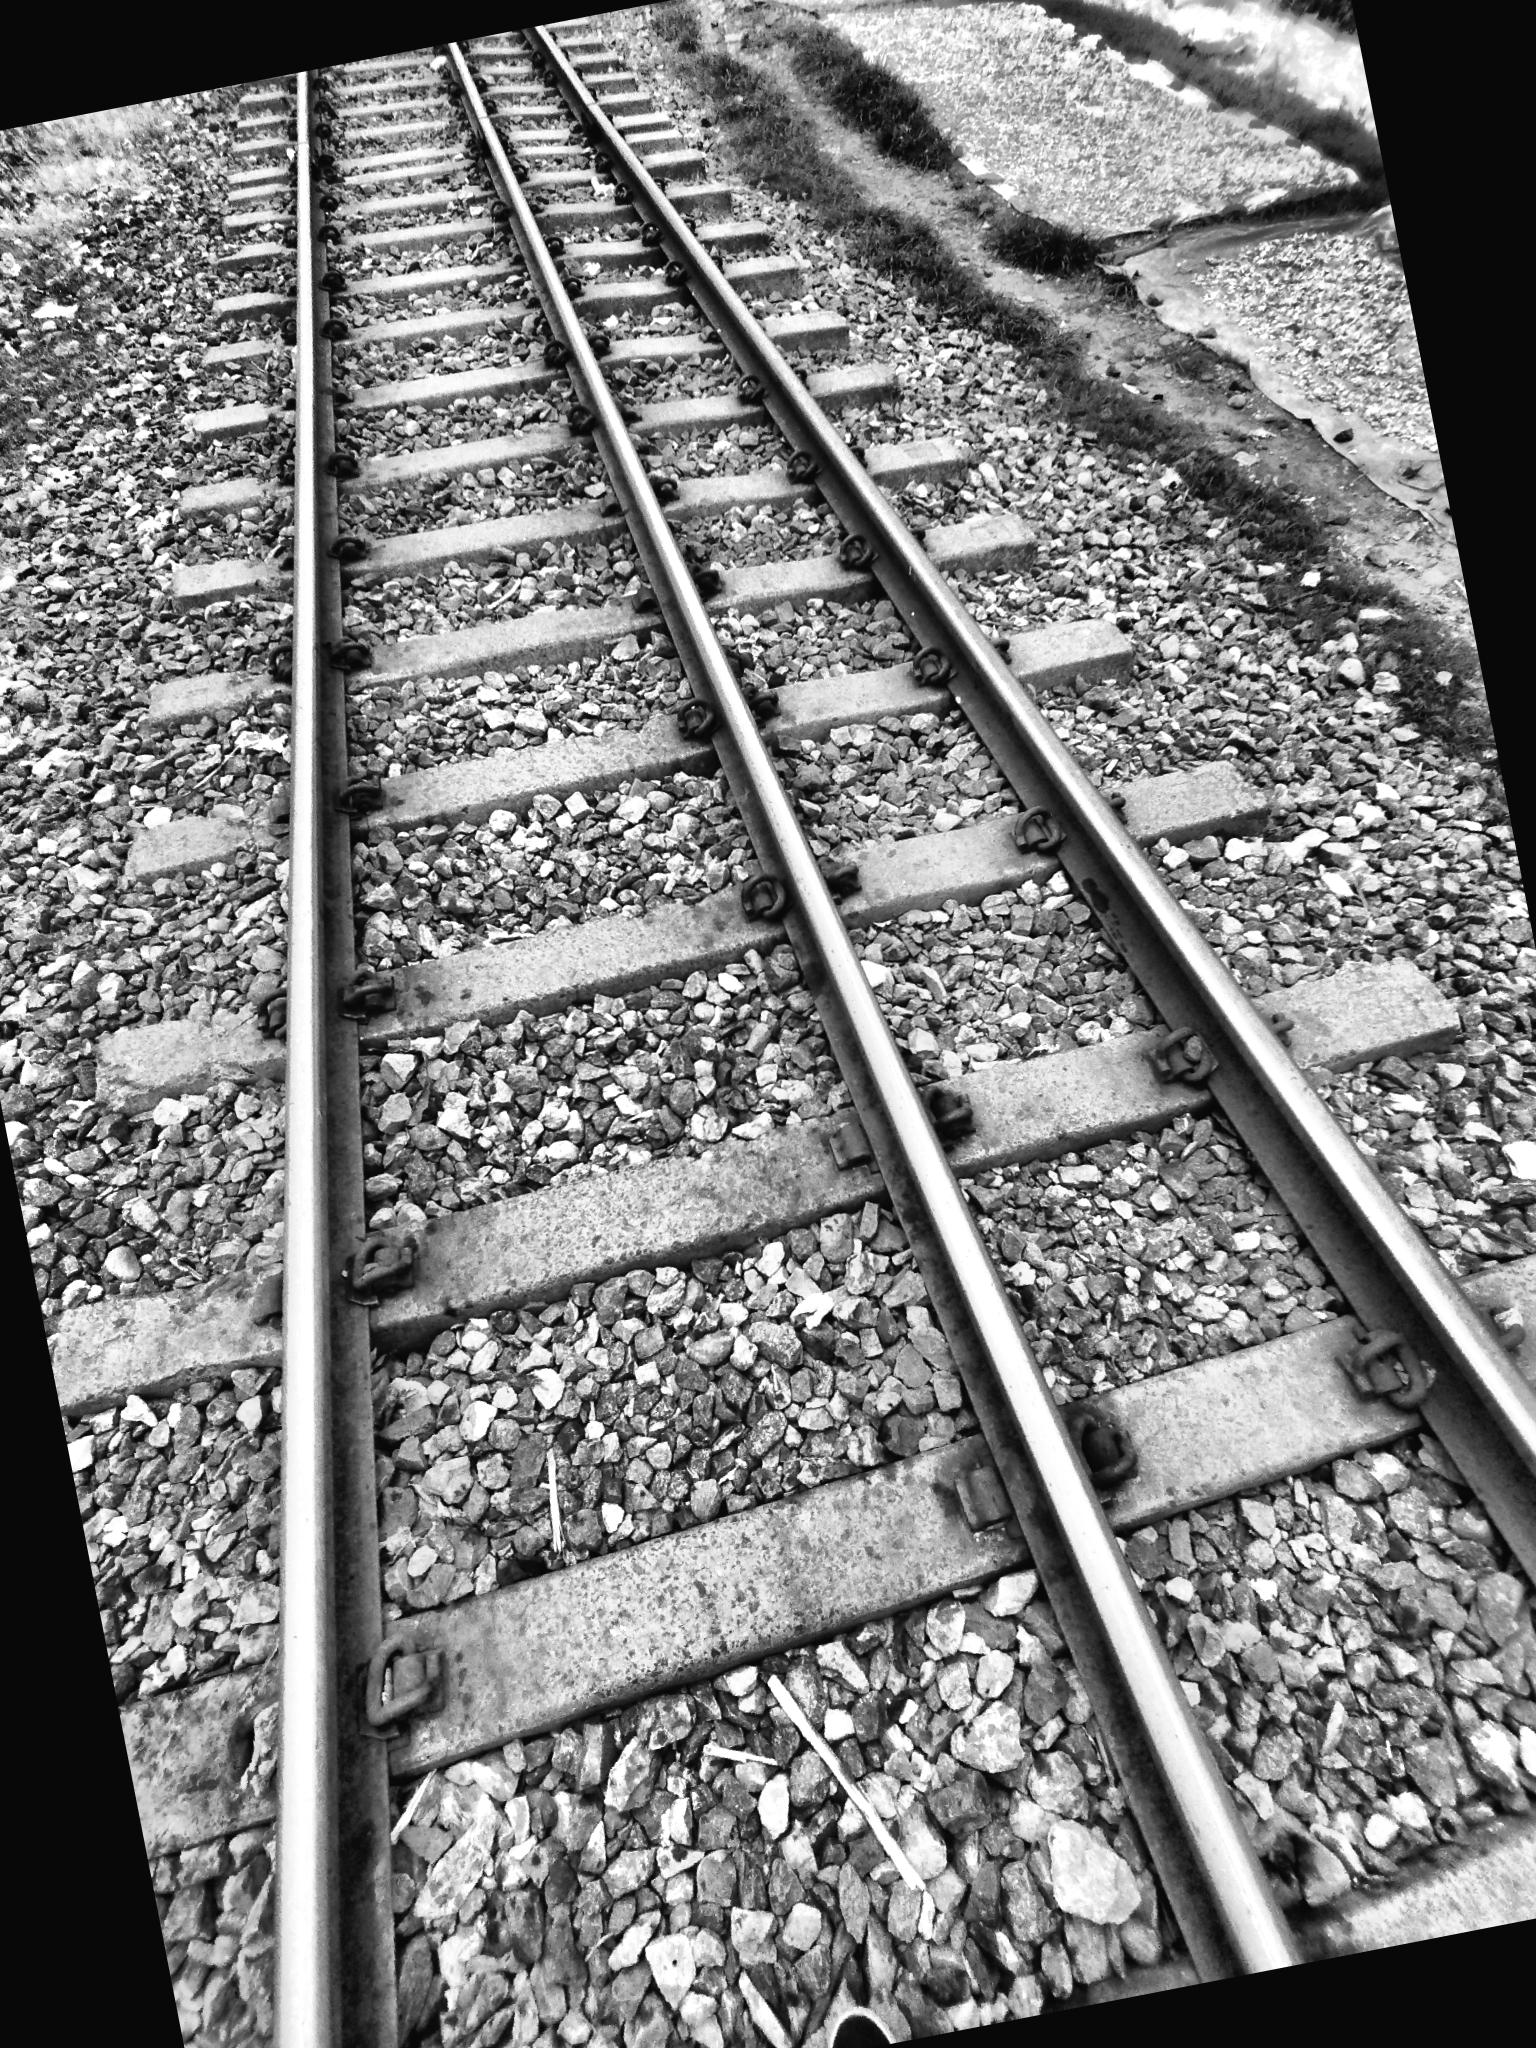Trash: (758, 1643, 963, 1948)
